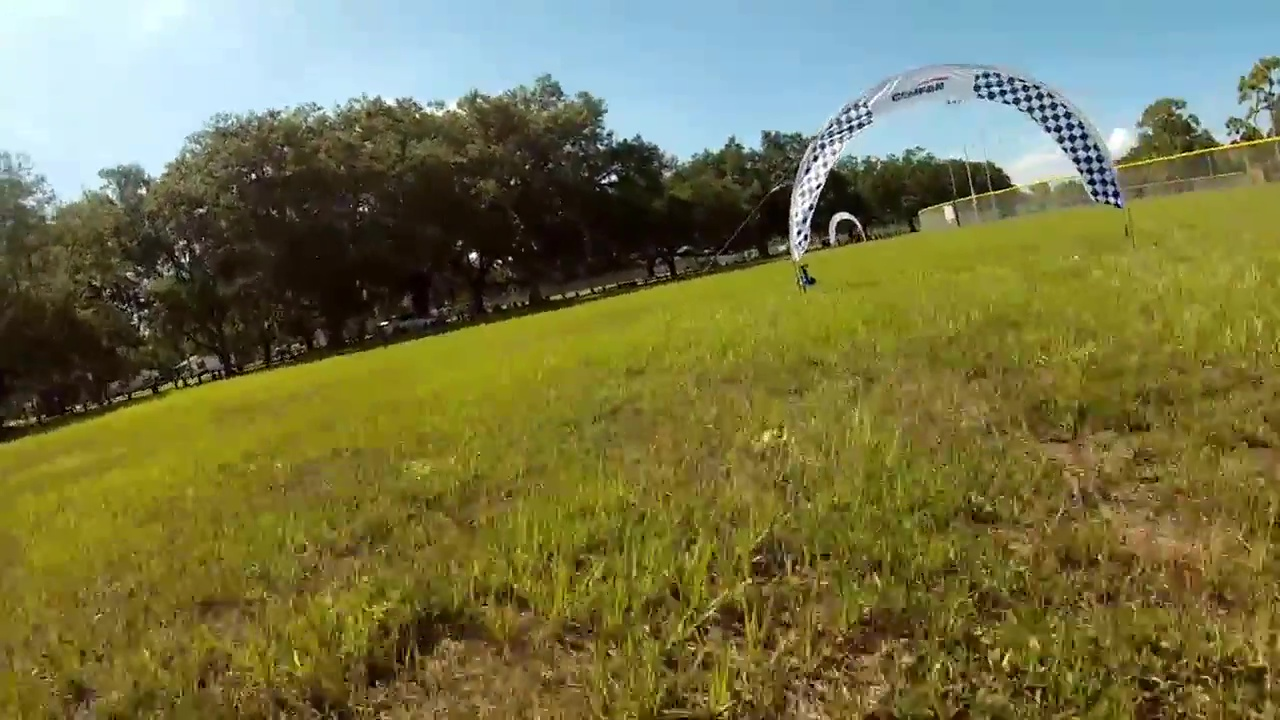gate: (789, 67, 1125, 257)
